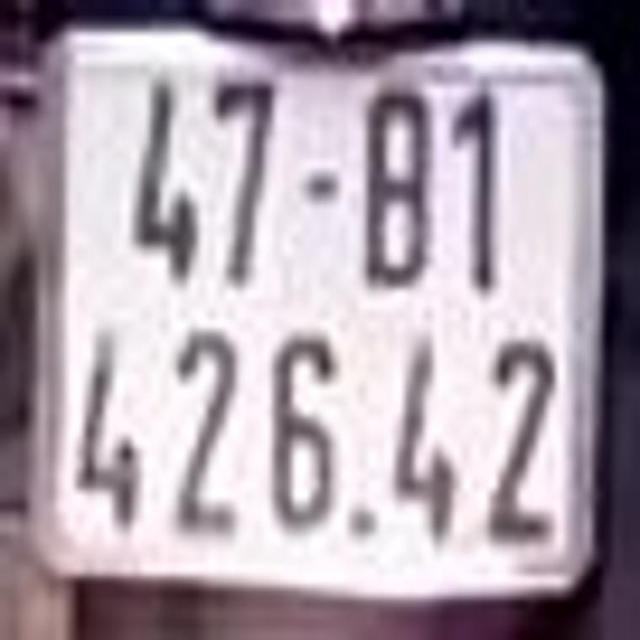1: (459, 96, 501, 290)
2: (486, 340, 558, 544), (172, 330, 240, 532)
4: (129, 85, 199, 278), (396, 344, 458, 545), (80, 334, 139, 534)
6: (266, 331, 338, 527)
7: (211, 90, 276, 286)
B: (367, 88, 425, 287)
